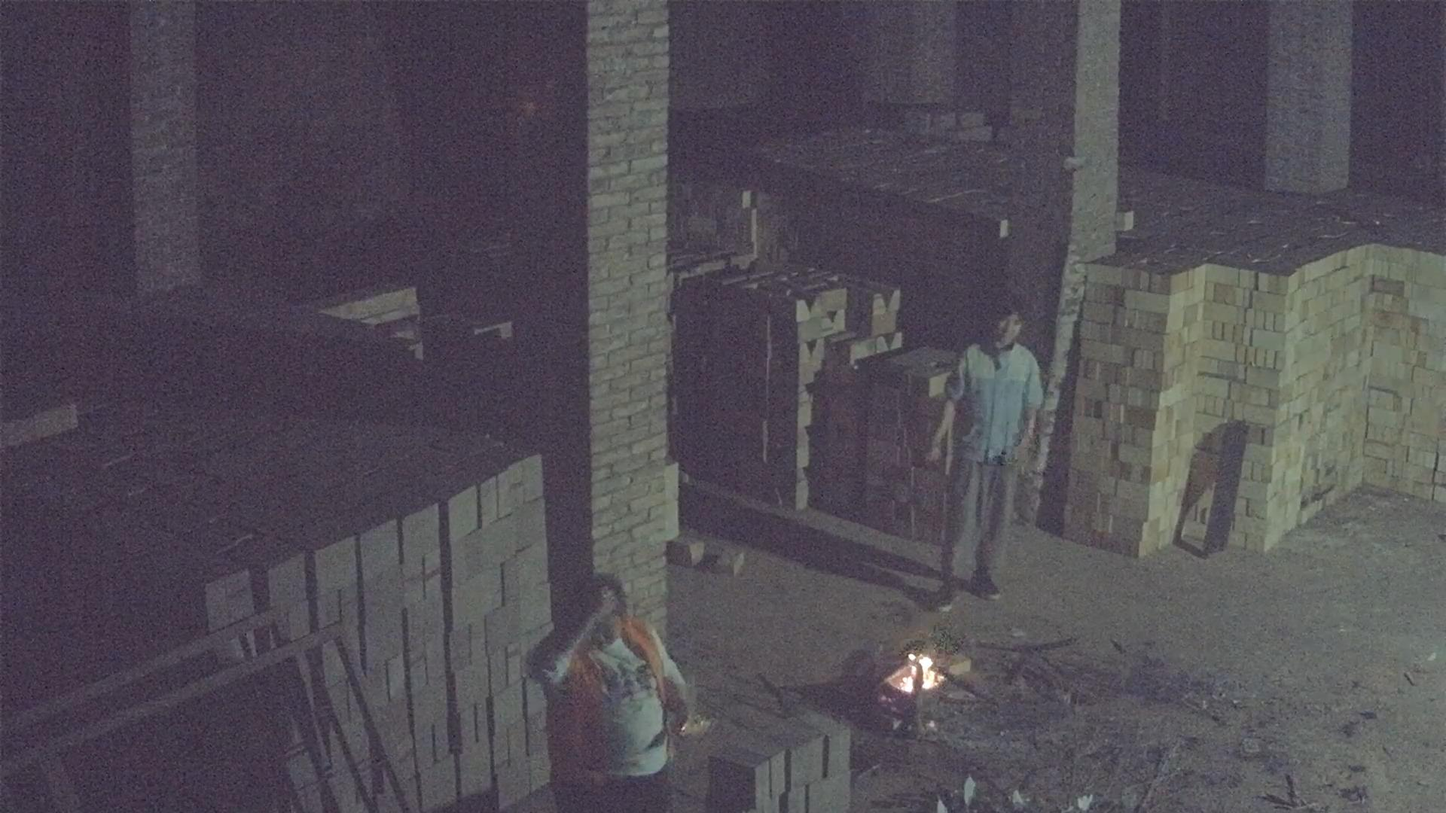fire: (886, 653, 938, 695)
